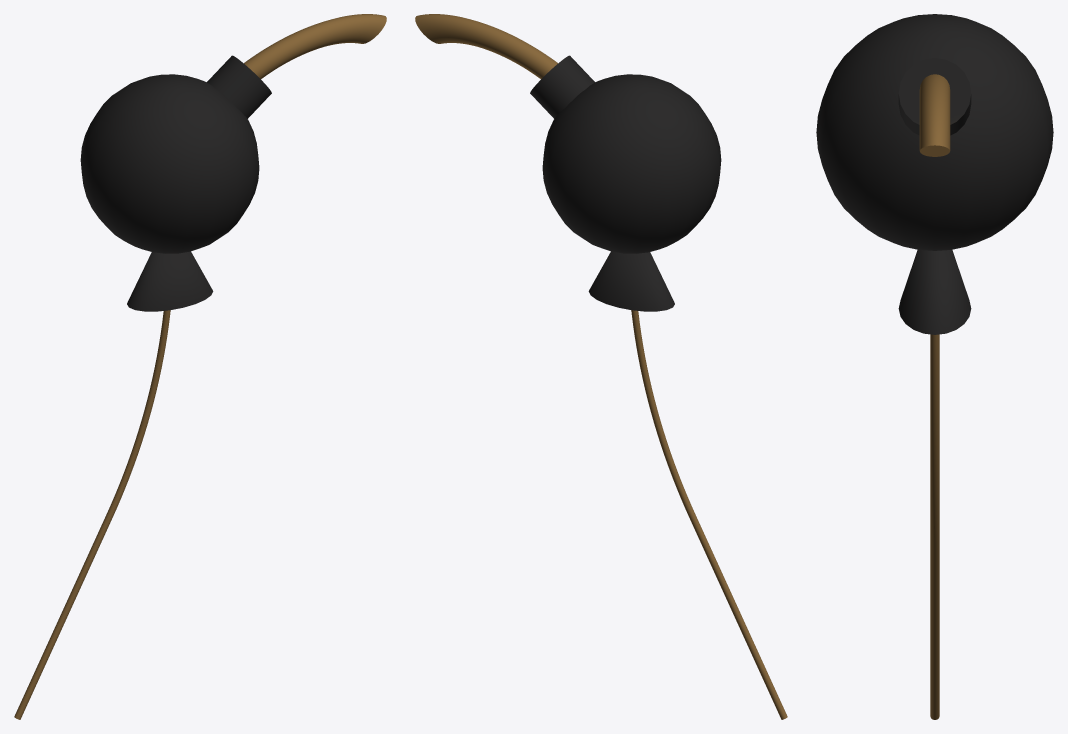
File: Bomb Balloon.fbx
3 views of the same model, side by side, from view 1: azimuth 30°, elevation 25°; view 2: azimuth 150°, elevation 25°; view 3: azimuth 270°, elevation 25° (orthographic). The views are drawn at different scales.
Parts seen in each view (by area): view 1: pasted__pCylinder1; view 2: pasted__pCylinder1; view 3: pasted__pCylinder1.
Boxes of the visible parts, x1,y1,x2,y2 form: pasted__pCylinder1: (14, 14, 386, 719); pasted__pCylinder1: (415, 14, 787, 719); pasted__pCylinder1: (816, 14, 1053, 719).
Size of the model in its own units: 15.57 by 24.97 by 6.53.
1 material, 1 textured.
